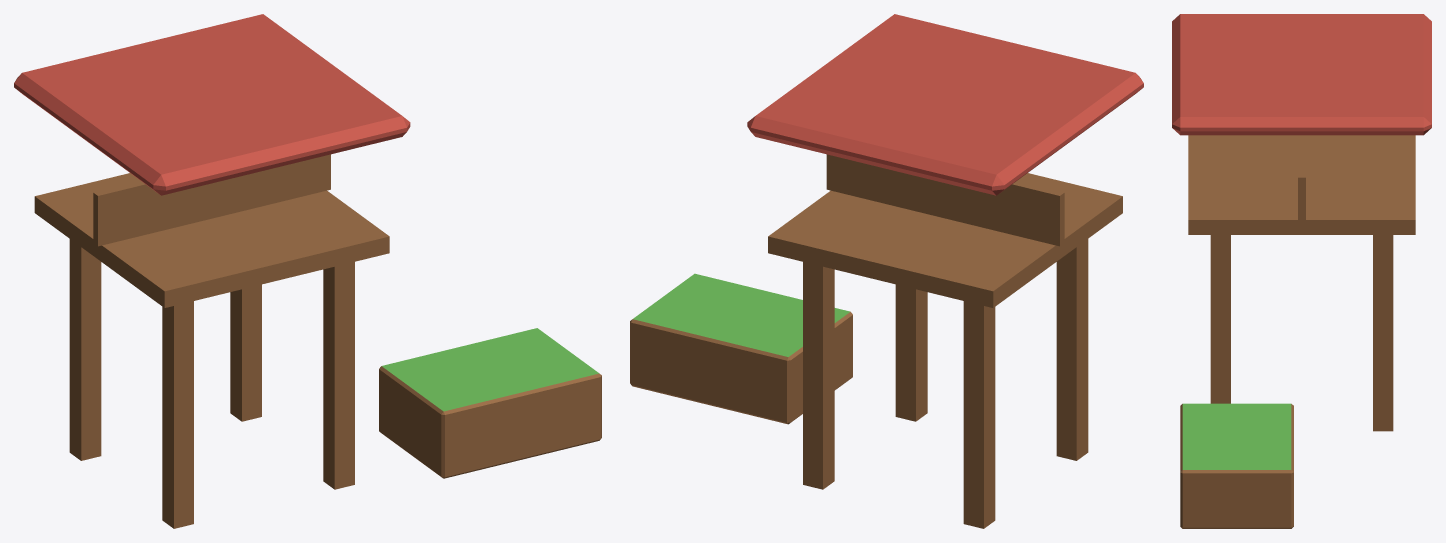
File: view.fbx
3 views of the same model, side by side, from view 1: azimuth 30°, elevation 25°; view 2: azimuth 150°, elevation 25°; view 3: azimuth 270°, elevation 25° (orthographic). The views are drawn at different scales.
Visible parts, largest first — view 1: view; view 2: view; view 3: view.
Boxes of the visible parts, box(x1,y1,x2,y2) form: view: box(14, 14, 601, 528); view: box(630, 14, 1143, 528); view: box(1172, 14, 1431, 528).
Bounding box in the file's own units: 5.6 × 4.45 × 3.2.
